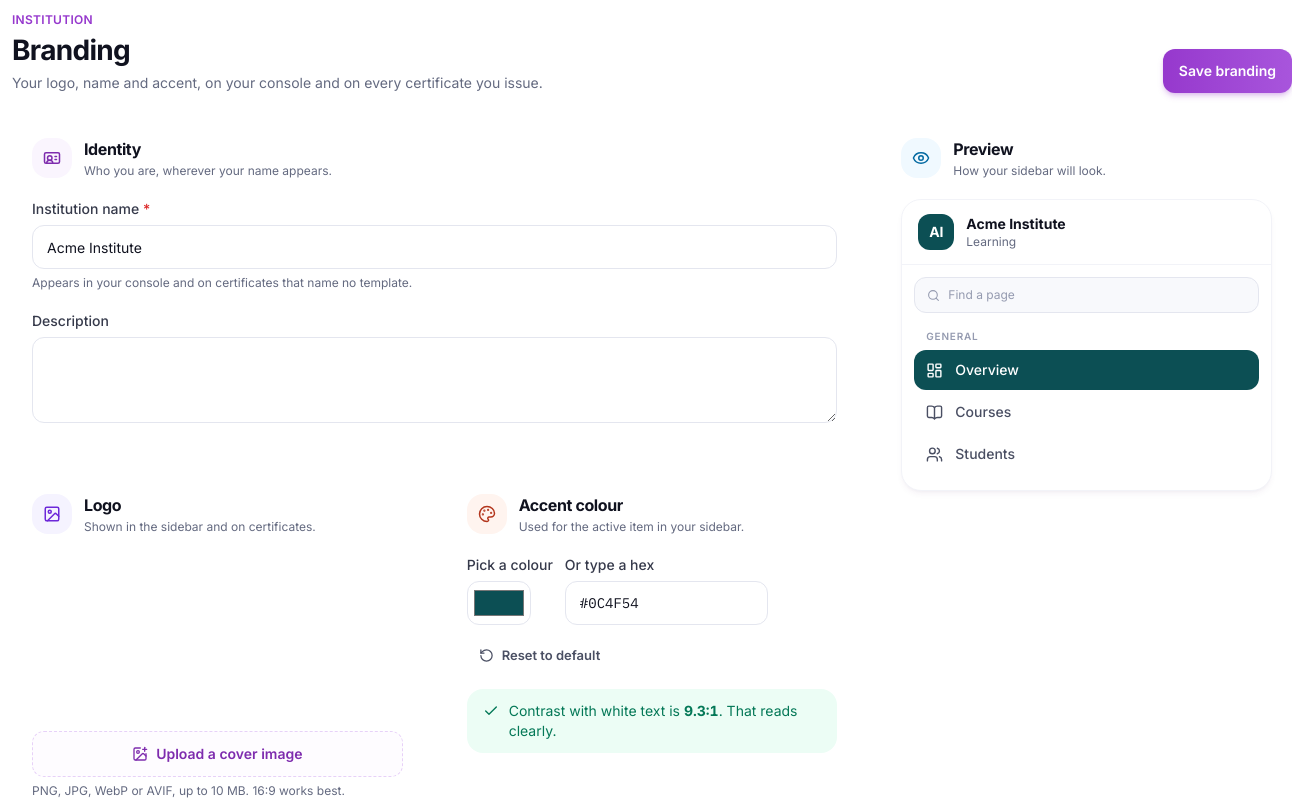
it: BrandingPage: contrast guard › resets to the platform accent on request
Replace the text in the field labelled "Or type a hex" with "#0f766e": (666, 603) [565,581,768,625]
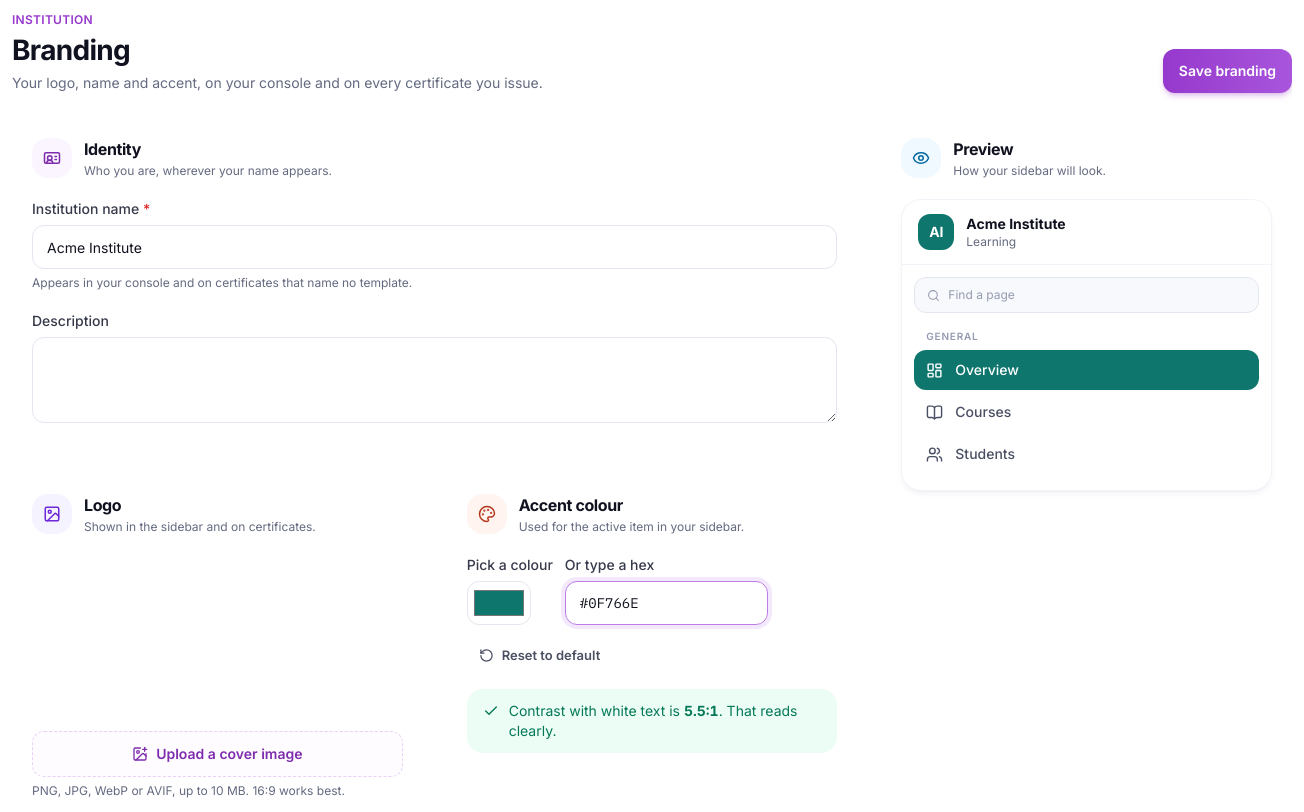
Click the button "Reset to default": (540, 655) [467,637,612,673]
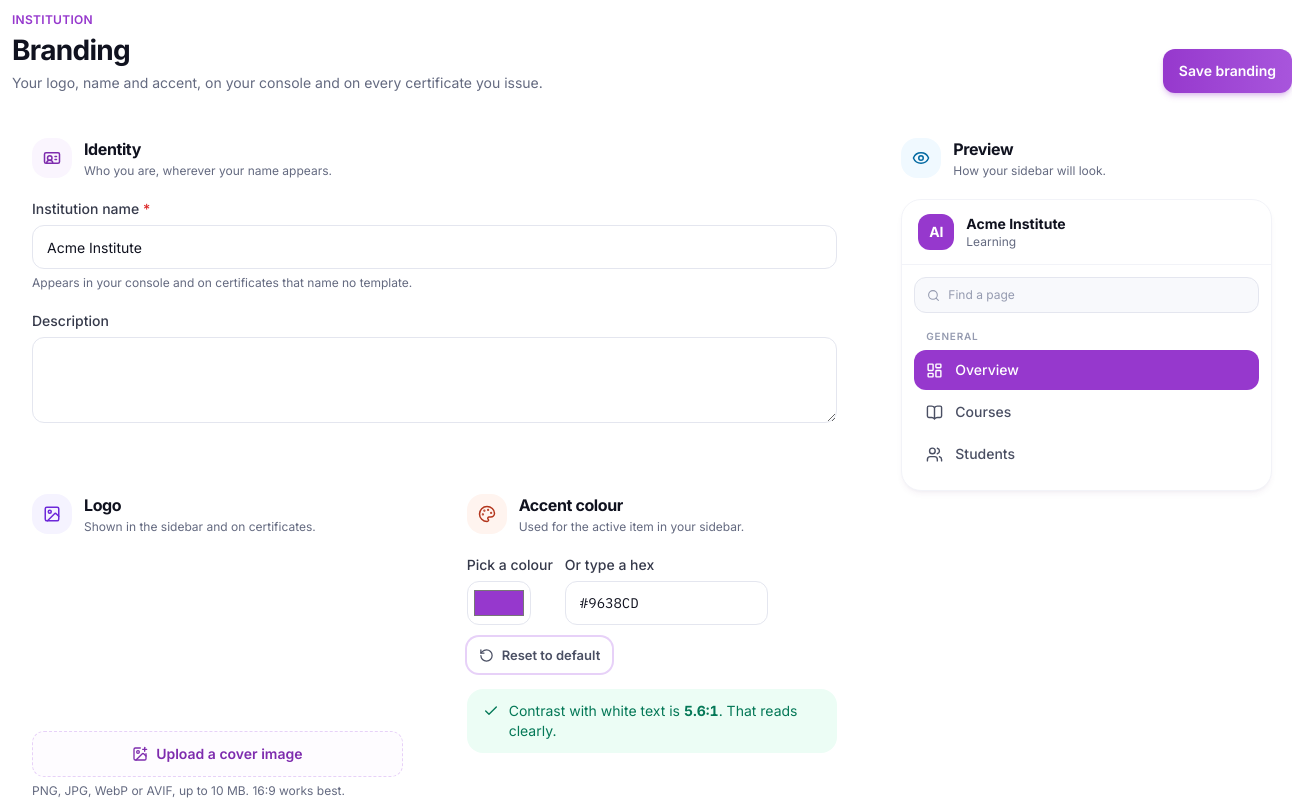
Expected: the field labelled "Or type a hex" holds "#9638cd", [565,581,768,625]
